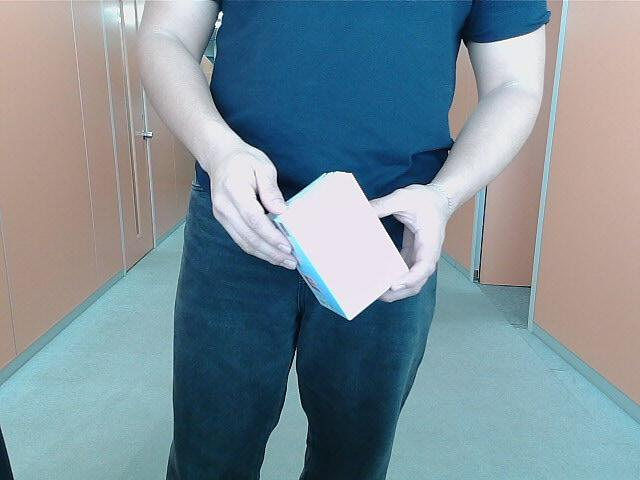Blind_box: (264, 168, 410, 319)
